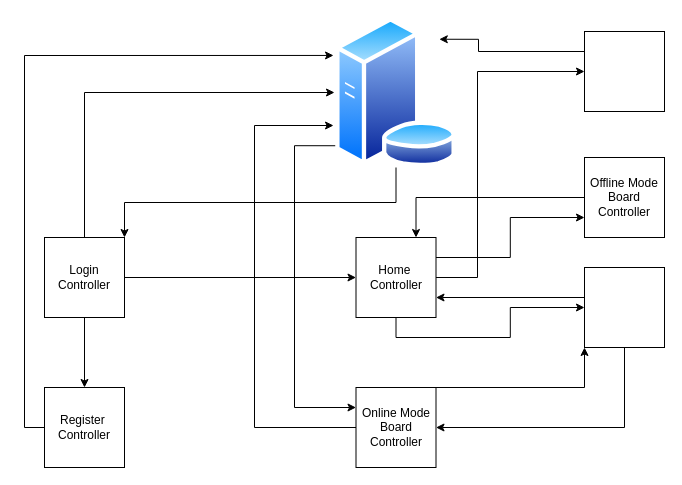
Some shapes in this 682 by 485 pixel diagram are drawn without their labels. The shapes that lost their labels are listed below. From the top down, each one's box as (x1, y1, x2, y2) in pixels, then its label:
(584, 30, 664, 112): User Profile
(584, 266, 664, 348): Online Multiplayer Controller
